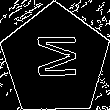M_W: (31, 37, 80, 84)
